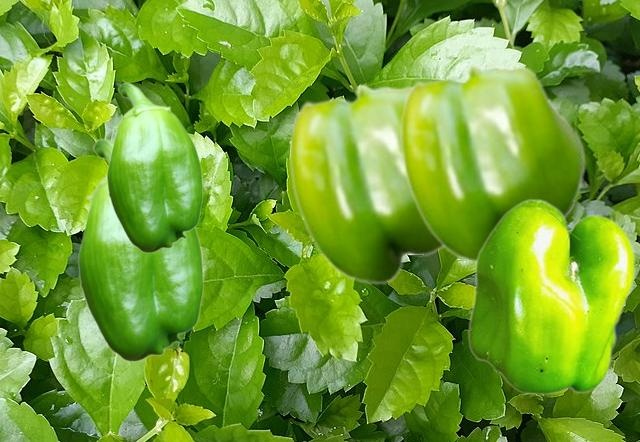bell_pepper: (400, 63, 585, 264), (467, 198, 634, 394), (289, 83, 443, 284), (77, 138, 203, 361), (106, 82, 202, 252)
